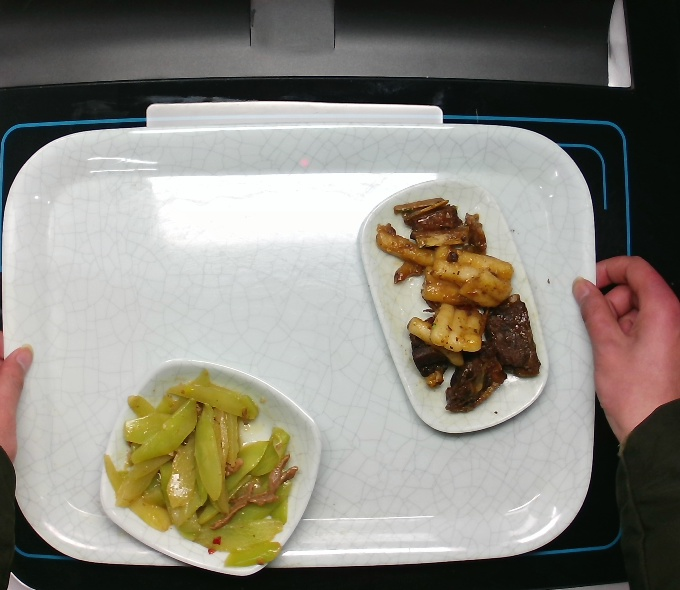wcq-NianGaoZaiPai: (371, 189, 547, 418)
wcq-WoSun: (94, 367, 303, 570)
